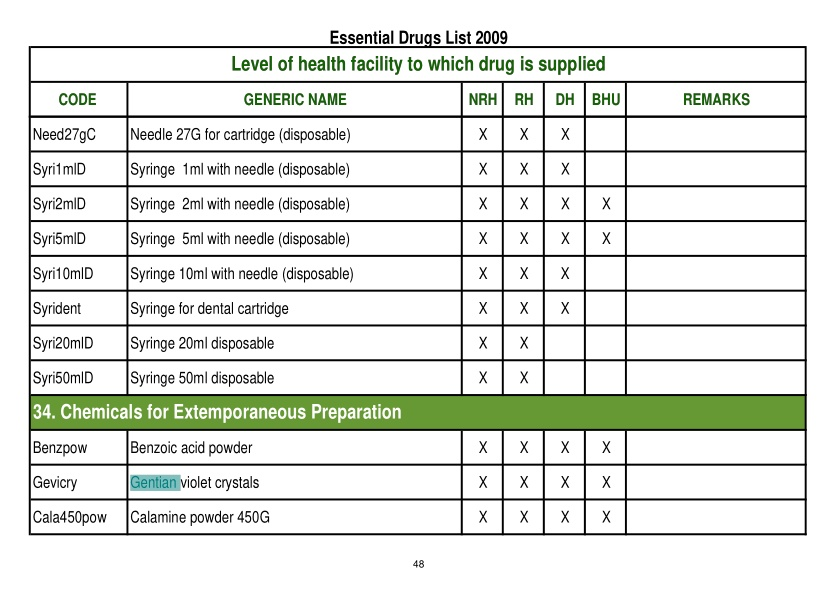merged_cells: (26, 44, 809, 538)
